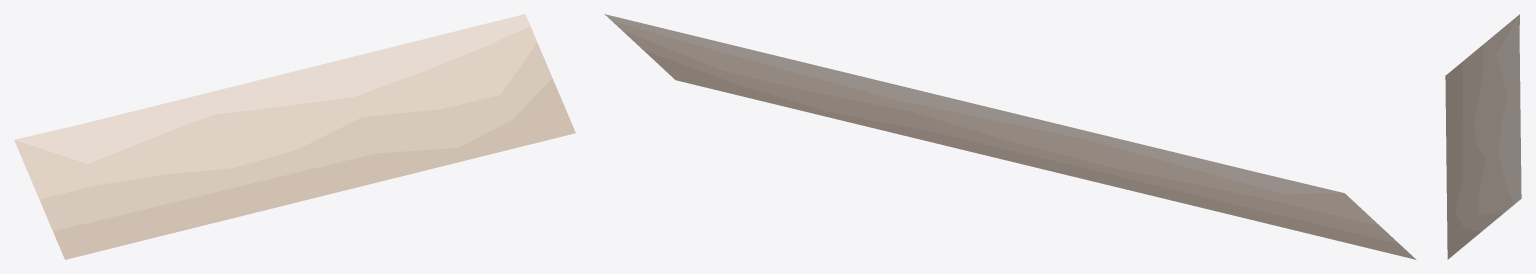
Rendered from base_dismalDesert3.fbx.
3 views of the same model, side by side, from view 1: azimuth 30°, elevation 25°; view 2: azimuth 150°, elevation 25°; view 3: azimuth 270°, elevation 25° (orthographic). The views are drawn at different scales.
Visible parts, largest first — view 1: base_dismalDesert1; view 2: base_dismalDesert1; view 3: base_dismalDesert1.
Part boxes in pixels (bbox=[...]): base_dismalDesert1: bbox=[14, 14, 575, 259]; base_dismalDesert1: bbox=[604, 14, 1416, 259]; base_dismalDesert1: bbox=[1445, 14, 1521, 259].
Size of the model in its own units: 801 by 124 by 139.
